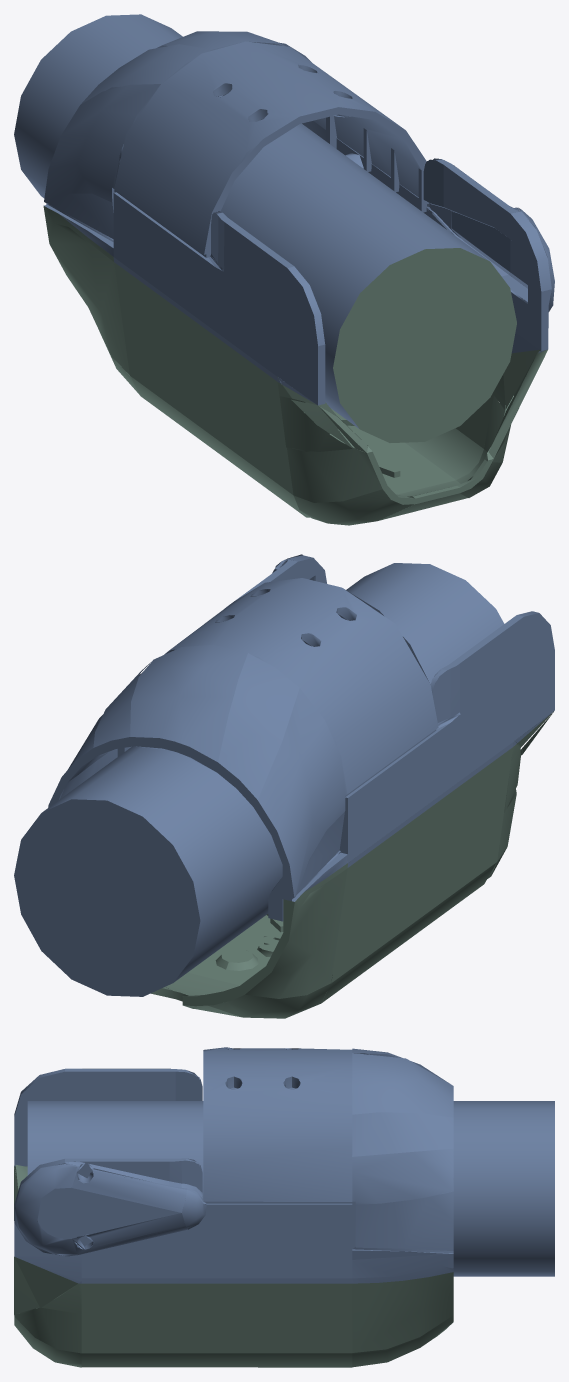
File: icub_l_arm.dae
3 renders of one model, top to bottom at view 1: azimuth 30°, elevation 25°; view 2: azimuth 150°, elevation 25°; view 3: azimuth 270°, elevation 25°, orthographic. The views are drawn at different scales.
Visible parts, largest first — view 1: l_upperarm_mesh, l_arm_cyl_mesh; view 2: l_upperarm_mesh, l_arm_cyl_mesh; view 3: l_upperarm_mesh, l_arm_cyl_mesh.
Boxes of the visible parts, bbox=[...] form: l_upperarm_mesh: bbox=[43, 31, 554, 525]; l_arm_cyl_mesh: bbox=[14, 14, 516, 442]; l_upperarm_mesh: bbox=[48, 554, 554, 1018]; l_arm_cyl_mesh: bbox=[14, 563, 504, 996]; l_upperarm_mesh: bbox=[14, 1047, 453, 1367]; l_arm_cyl_mesh: bbox=[27, 1101, 554, 1276].
Bounding box in the file's own units: 0.0716 × 0.0916 × 0.1601.
